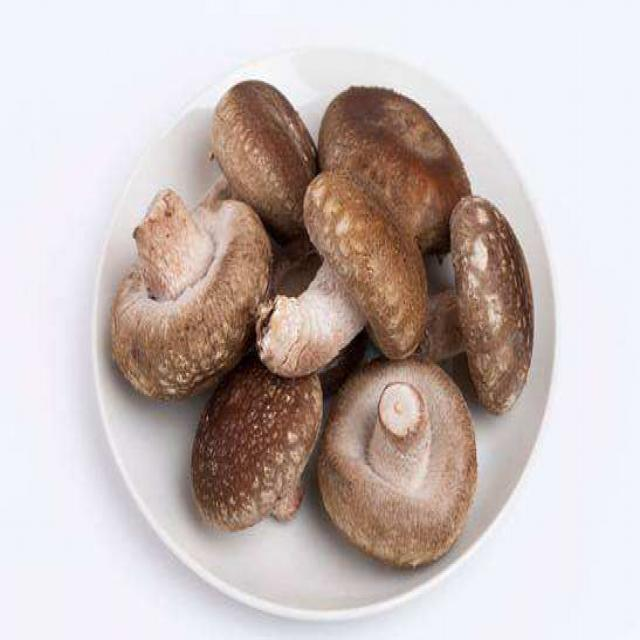Lentinus edodes: (260, 168, 424, 376), (113, 186, 271, 398), (322, 359, 478, 563), (418, 197, 537, 408), (322, 83, 470, 247), (192, 362, 322, 532), (210, 78, 315, 231)
